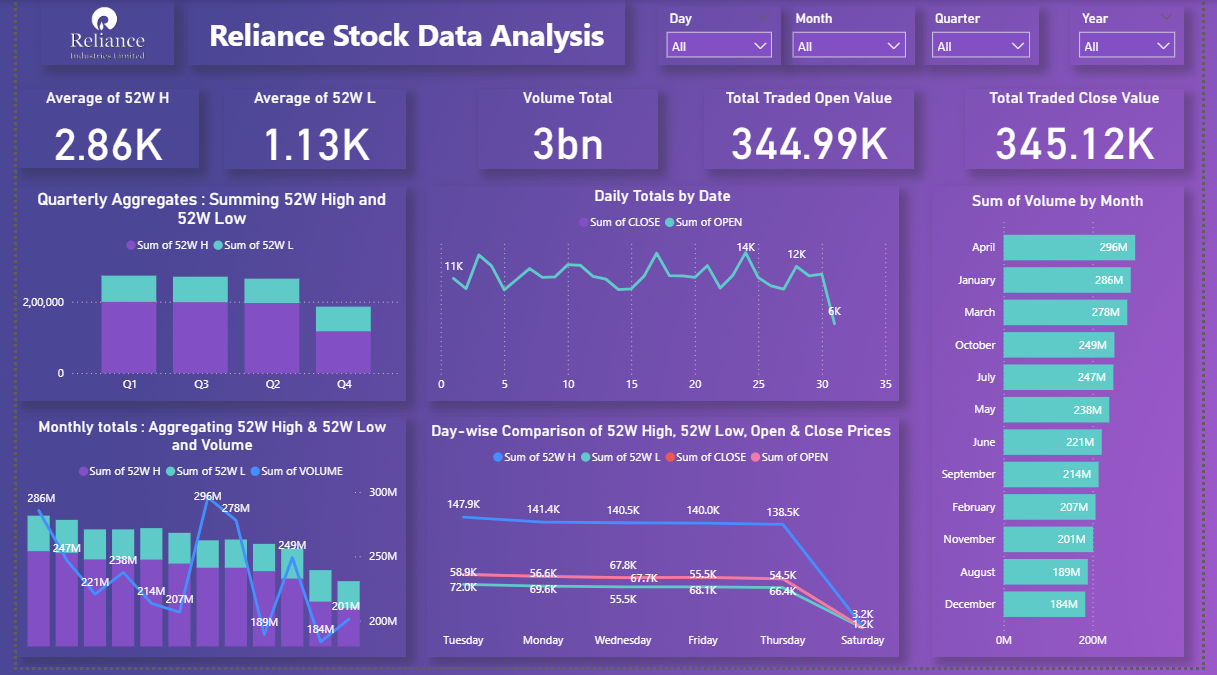

This screenshot's page, from the dashboard's own definition file:
{"tool":"powerbi","page":{"name":"Page 1","canvas":[1280,720],"ordinal":0},"visuals":[{"type":"card","title":"Average of 52W H","fields":{"Values":["Avg(Reliance Stock Data.52W H)"]},"box":[0,95,196,86],"z":0},{"type":"card","title":"Average of 52W L","fields":{"Values":["Avg(Reliance Stock Data.52W L)"]},"box":[223.3,95,196.7,86.7],"z":1000},{"type":"card","title":"Total Traded Open Value","fields":{"Values":["Sum(Reliance Stock Data.OPEN)"]},"box":[741.7,95,226.7,86.7],"z":2000},{"type":"card","title":"Total Traded Close Value","fields":{"Values":["Sum(Reliance Stock Data.CLOSE)"]},"box":[1023.3,95,236.7,86.7],"z":3000},{"type":"slicer","fields":{"Values":["Reliance Stock Data.Month"]},"box":[826.7,6.7,141.7,63.3],"z":4000},{"type":"slicer","fields":{"Values":["Reliance Stock Data.Year"]},"box":[1136.7,6.7,123.3,63.3],"z":5000},{"type":"slicer","fields":{"Values":["Reliance Stock Data.Day"]},"box":[691.7,6.7,133.3,63.3],"z":6000},{"type":"slicer","fields":{"Values":["Reliance Stock Data.Quarter"]},"box":[978.3,6.7,125,63.3],"z":7000},{"type":"textbox","box":[185,0,471.7,70],"z":8000},{"type":"card","title":"Volume Total","fields":{"Values":["Sum(Reliance Stock Data.VOLUME)"]},"box":[496.7,95,195,86.7],"z":9000},{"type":"columnChart","title":"Quarterly Aggregates : Summing 52W High and 52W Low","fields":{"Y":["Sum(Reliance Stock Data.52W H)","Sum(Reliance Stock Data.52W L)"],"Category":["Reliance Stock Data.Quarter"]},"box":[0,200,420,231.7],"z":10000},{"type":"lineStackedColumnComboChart","title":"Monthly totals : Aggregating 52W High & 52W Low and Volume","fields":{"Y2":["Sum(Reliance Stock Data.VOLUME)"],"Y":["Sum(Reliance Stock Data.52W H)","Sum(Reliance Stock Data.52W L)"],"Category":["Reliance Stock Data.Month"]},"box":[0,450,420,258.3],"z":11000},{"type":"lineChart","title":"Daily Totals by Date","fields":{"Category":["Reliance Stock Data.DATE.Variation.Date Hierarchy.Day"],"Y":["Sum(Reliance Stock Data.CLOSE)","Sum(Reliance Stock Data.OPEN)"]},"box":[441.7,200,510,231.7],"z":12000},{"type":"lineChart","title":"Day-wise Comparison of 52W High, 52W Low, Open & Close Prices","fields":{"Y":["Sum(Reliance Stock Data.52W H)","Sum(Reliance Stock Data.52W L)","Sum(Reliance Stock Data.CLOSE)","Sum(Reliance Stock Data.OPEN)"],"Category":["Reliance Stock Data.Day"]},"box":[441.7,450,510,258.3],"z":12001},{"type":"clusteredBarChart","title":"Sum of Volume by Month","fields":{"Y":["Sum(Reliance Stock Data.VOLUME)"],"Category":["Reliance Stock Data.Month"]},"box":[988.3,200,271.7,508.3],"z":12002},{"type":"image","box":[26.7,0,143.3,70],"z":12003}]}

Visuals, with their boxes in screenshot pixels (x1, y1, x2, y2), scaled from the page's 1280x720 canvas onto the 1217x675 screenshot:
"Average of 52W H" card: box(0, 89, 186, 170)
"Average of 52W L" card: box(212, 89, 399, 170)
"Total Traded Open Value" card: box(705, 89, 921, 170)
"Total Traded Close Value" card: box(973, 89, 1198, 170)
slicer - Reliance Stock Data.Month: box(786, 6, 921, 66)
slicer - Reliance Stock Data.Year: box(1081, 6, 1198, 66)
slicer - Reliance Stock Data.Day: box(658, 6, 784, 66)
slicer - Reliance Stock Data.Quarter: box(930, 6, 1049, 66)
textbox: box(176, 0, 624, 66)
"Volume Total" card: box(472, 89, 658, 170)
"Quarterly Aggregates : Summing 52W High and 52W Low" columnChart: box(0, 188, 399, 405)
"Monthly totals : Aggregating 52W High & 52W Low and Volume" lineStackedColumnComboChart: box(0, 422, 399, 664)
"Daily Totals by Date" lineChart: box(420, 188, 905, 405)
"Day-wise Comparison of 52W High, 52W Low, Open & Close Prices" lineChart: box(420, 422, 905, 664)
"Sum of Volume by Month" clusteredBarChart: box(940, 188, 1198, 664)
image: box(25, 0, 162, 66)
